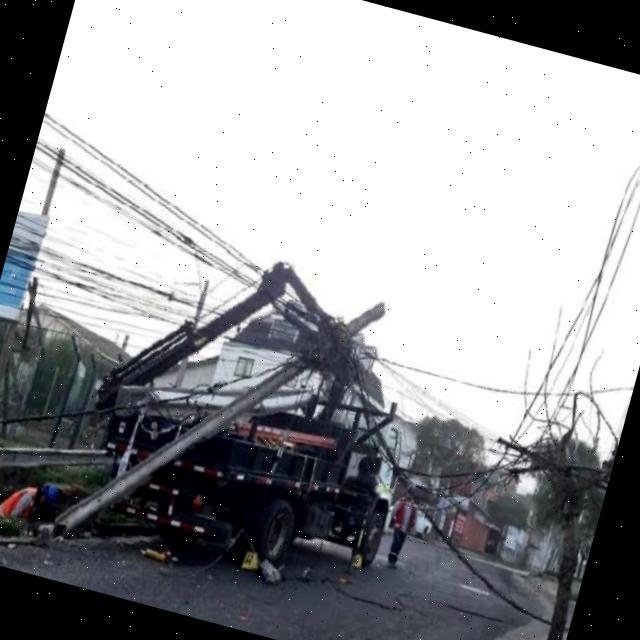Broken Pole: (46, 299, 391, 541)
